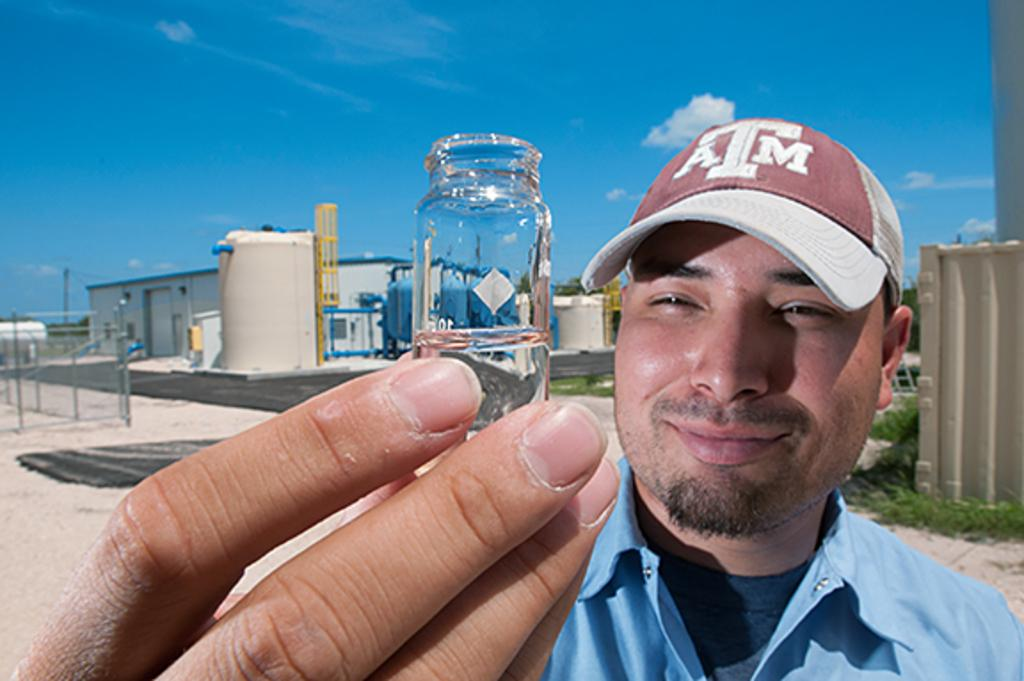Hat: (578, 115, 900, 308)
